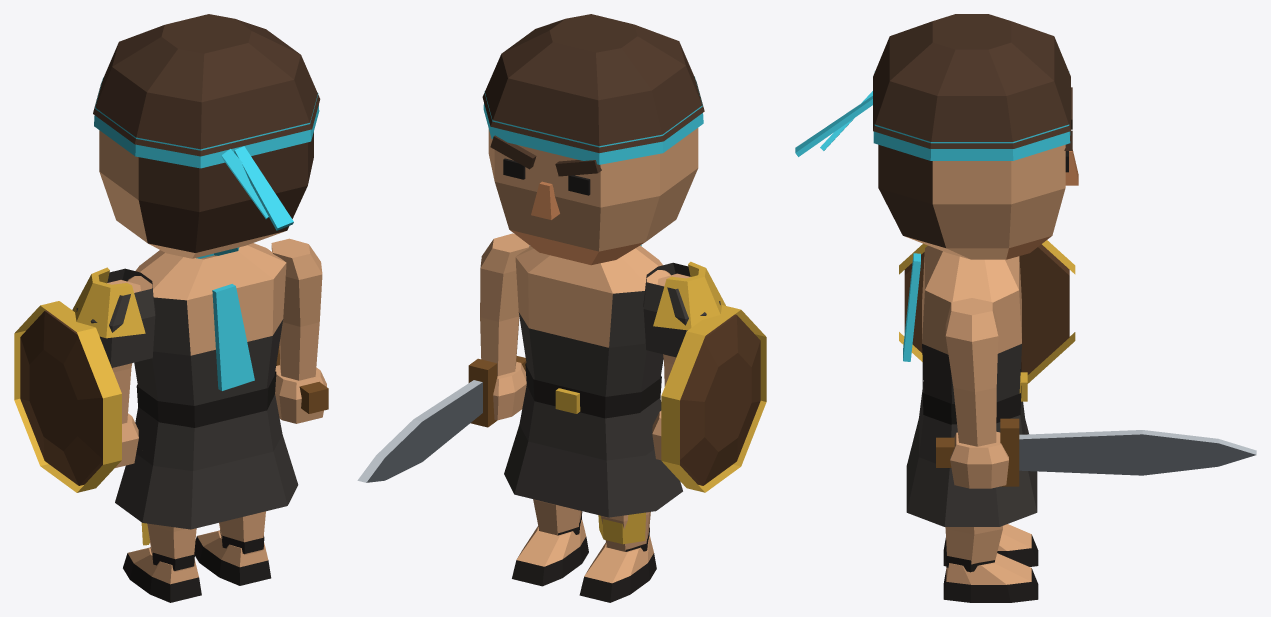
The model's file is CH_Nobody_Unbowed.fbx.
3 views of the same model, side by side, from view 1: azimuth 30°, elevation 25°; view 2: azimuth 150°, elevation 25°; view 3: azimuth 270°, elevation 25° (orthographic). The views are drawn at different scales.
Visible parts, largest first — view 1: Head, Body, ArmL, ArmR, LegL, LegR; view 2: Head, Body, ArmL, ArmR, LegL, LegR; view 3: Head, Body, ArmR, ArmL, LegR, LegL.
Part boxes in pixels (x1,y1,x2,y2): Head: [93, 14, 320, 258]; Body: [115, 243, 298, 529]; ArmL: [14, 267, 155, 492]; ArmR: [271, 238, 328, 423]; LegL: [123, 522, 201, 602]; LegR: [194, 511, 271, 585]; Head: [482, 14, 704, 265]; Body: [504, 245, 682, 517]; ArmL: [643, 261, 766, 492]; ArmR: [357, 233, 529, 482]; LegL: [579, 512, 656, 602]; LegR: [512, 499, 588, 586]; Head: [795, 14, 1078, 259]; Body: [903, 245, 1037, 526]; ArmR: [936, 298, 1256, 488]; ArmL: [899, 240, 1075, 383]; LegR: [943, 526, 1038, 602]; LegL: [943, 524, 1038, 566].
Bounding box in the file's own units: 0.797 × 1.22 × 1.58.
